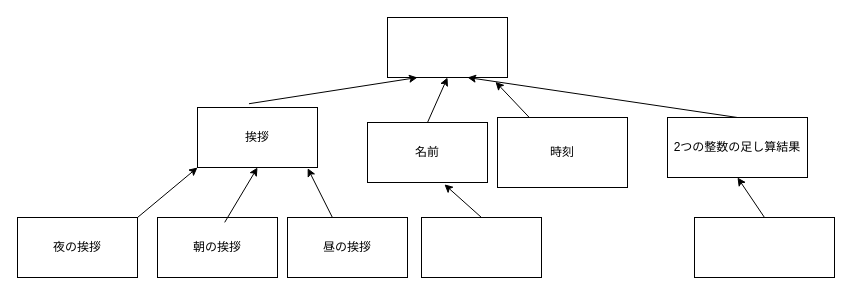
The diagram is 852 pixels wide and 295 high, and some of its shapes have lost their labels. The shapes that lost their labels are listed below. From the top down, each one's centre as x and y in pixels, then its label:
the point at 447,47: robodog
the point at 481,247: 変更する
the point at 764,247: 2つの整数の足し算することができる
